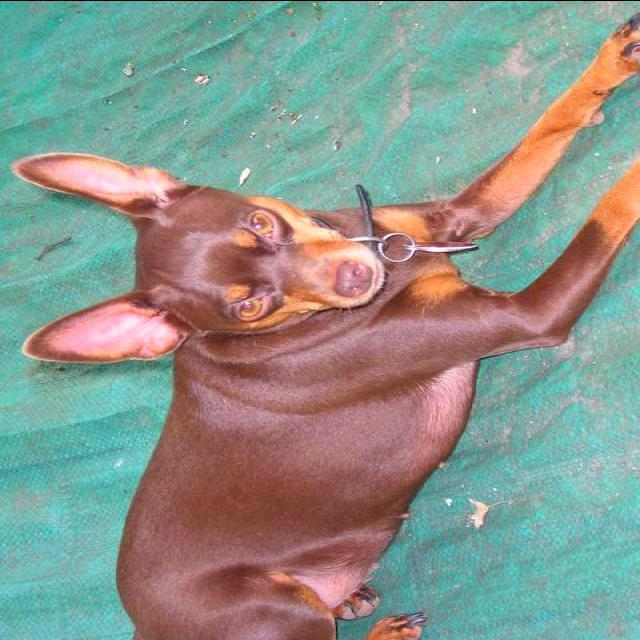chihuahua: (11, 11, 637, 638)
